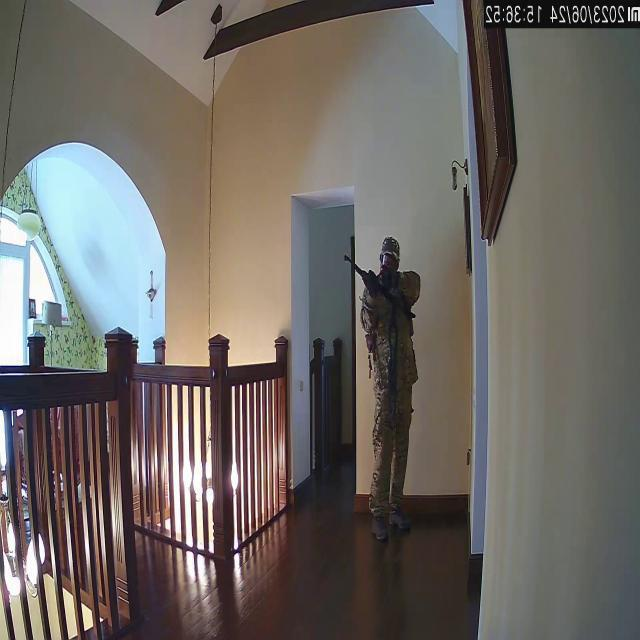pistol: (342, 250, 416, 304)
